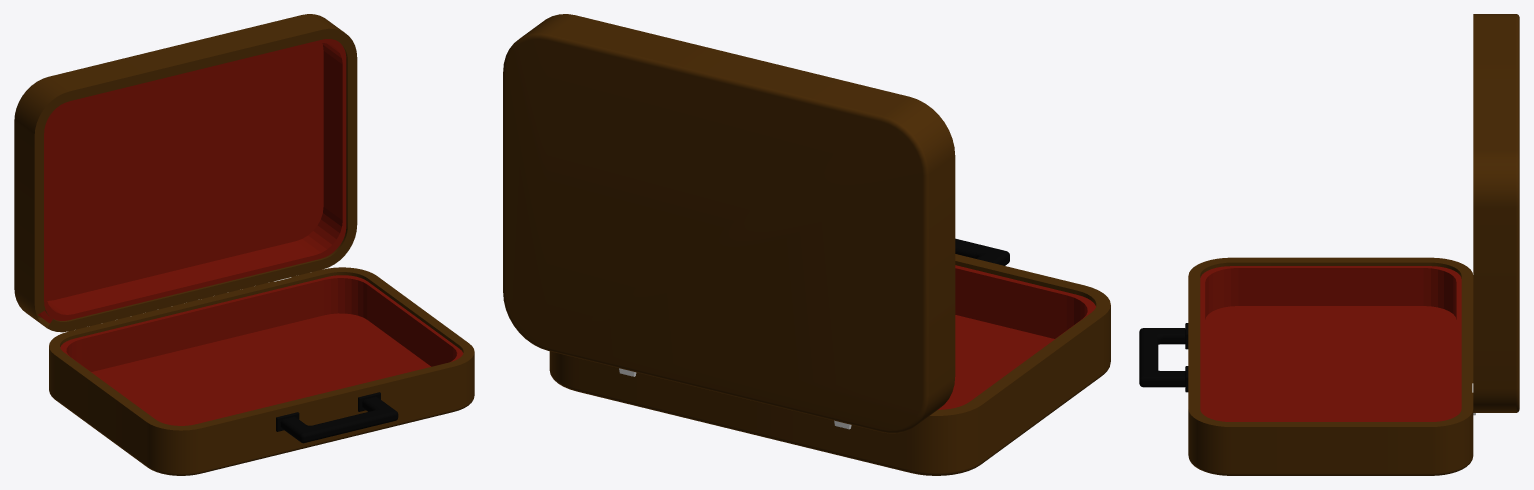
Rendered from briefcase.fbx.
3 views of the same model, side by side, from view 1: azimuth 30°, elevation 25°; view 2: azimuth 150°, elevation 25°; view 3: azimuth 270°, elevation 25° (orthographic). The views are drawn at different scales.
Parts seen in each view (by area): view 1: Cube, Cube.004, Cube.001, Cube.002; view 2: Cube, Cube.001, Cube.004, Cube.002; view 3: Cube.004, Cube.001, Cube, Cube.002.
Boxes of the visible parts, x1=… form: Cube: x1=14, y1=14, x2=357, y2=332; Cube.004: x1=60, y1=275, x2=463, y2=425; Cube.001: x1=49, y1=267, x2=474, y2=475; Cube.002: x1=276, y1=392, x2=398, y2=443; Cube: x1=503, y1=14, x2=955, y2=433; Cube.001: x1=549, y1=254, x2=1110, y2=475; Cube.004: x1=938, y1=265, x2=1095, y2=409; Cube.002: x1=955, y1=238, x2=1009, y2=265; Cube.004: x1=1200, y1=266, x2=1461, y2=421; Cube.001: x1=1188, y1=257, x2=1473, y2=475; Cube: x1=1472, y1=14, x2=1519, y2=412; Cube.002: x1=1139, y1=323, x2=1188, y2=392.
Size of what is drawn, in the model's own units: 344 by 292 by 326.
